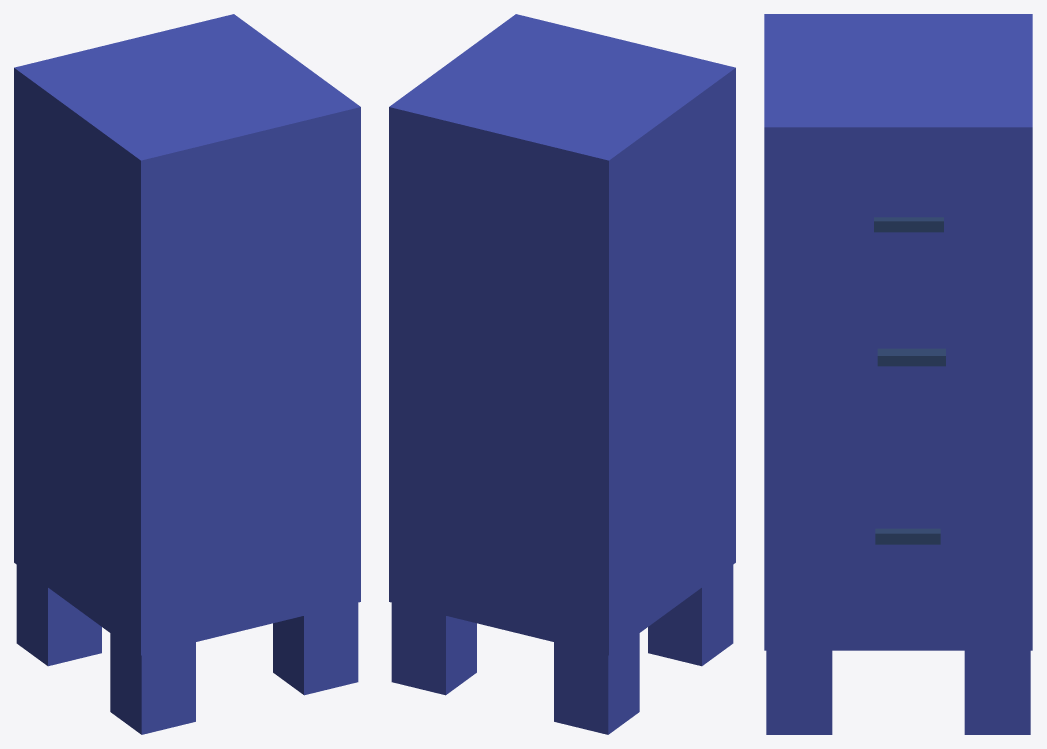
Rendered from archivador.glb.
3 renders of one model, left to right at view 1: azimuth 30°, elevation 25°; view 2: azimuth 150°, elevation 25°; view 3: azimuth 270°, elevation 25°, orthographic. The views are drawn at different scales.
Parts seen in each view (by area): view 1: Cube; view 2: Cube; view 3: Cube, Cube.002, Cube.003, Cube.001.
Part boxes in pixels (x1,y1,x2,y2): Cube: (14, 14, 360, 734); Cube: (389, 14, 735, 734); Cube: (764, 14, 1032, 734); Cube.002: (877, 348, 945, 366); Cube.003: (875, 528, 940, 544); Cube.001: (874, 217, 943, 232).
Bounding box in the file's own units: 0.9091 × 2.13 × 0.8528.
